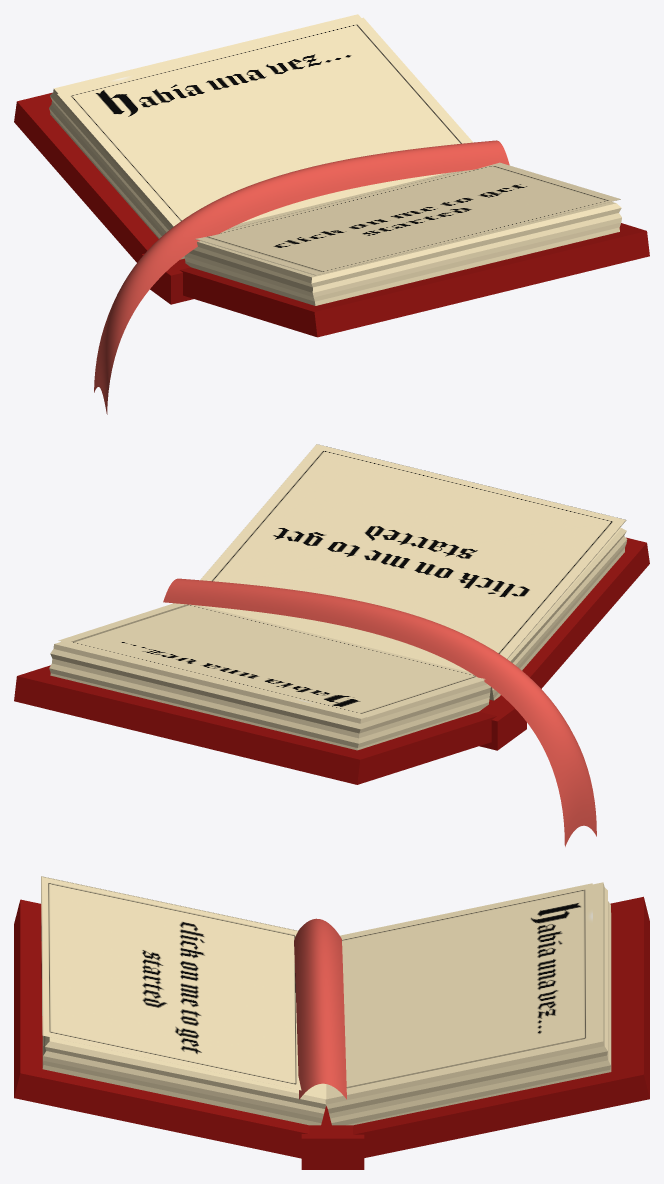
File: book3.glb
3 renders of one model, top to bottom at view 1: azimuth 30°, elevation 25°; view 2: azimuth 150°, elevation 25°; view 3: azimuth 270°, elevation 25°, orthographic. The views are drawn at different scales.
Parts seen in each view (by area): view 1: Plane, Plane.001, Cube.001, SurfPatch, Cube.002, Cube, Cube.003, Cube.004; view 2: Plane.001, Plane, Cube, SurfPatch, Cube.003, Cube.002, Cube.001, Cube.004; view 3: Plane.001, Plane, Cube, Cube.001, Cube.003, Cube.002, SurfPatch, Cube.004.
Boxes of the visible parts, <box> form: Plane: <box>57,17,473,226</box>; Plane.001: <box>195,162,620,275</box>; Cube.001: <box>180,223,649,337</box>; SurfPatch: <box>94,140,509,414</box>; Cube.002: <box>184,171,621,305</box>; Cube: <box>14,92,158,262</box>; Cube.003: <box>49,14,444,259</box>; Cube.004: <box>141,253,193,304</box>; Plane.001: <box>200,444,626,659</box>; Plane: <box>58,603,485,717</box>; Cube: <box>14,665,496,784</box>; SurfPatch: <box>163,578,596,846</box>; Cube.003: <box>49,641,490,750</box>; Cube.002: <box>201,527,627,700</box>; Cube.001: <box>499,537,649,697</box>; Cube.004: <box>479,697,526,750</box>; Plane.001: <box>41,876,301,1090</box>; Plane: <box>330,883,593,1096</box>; Cube: <box>353,896,649,1157</box>; Cube.001: <box>14,899,309,1158</box>; Cube.003: <box>325,882,611,1125</box>; Cube.002: <box>42,1035,326,1125</box>; SurfPatch: <box>294,918,346,1099</box>; Cube.004: <box>301,1106,364,1169</box>.
Size of the model in its own units: 3.09 by 1.45 by 3.78.
6 materials, 2 textured.
